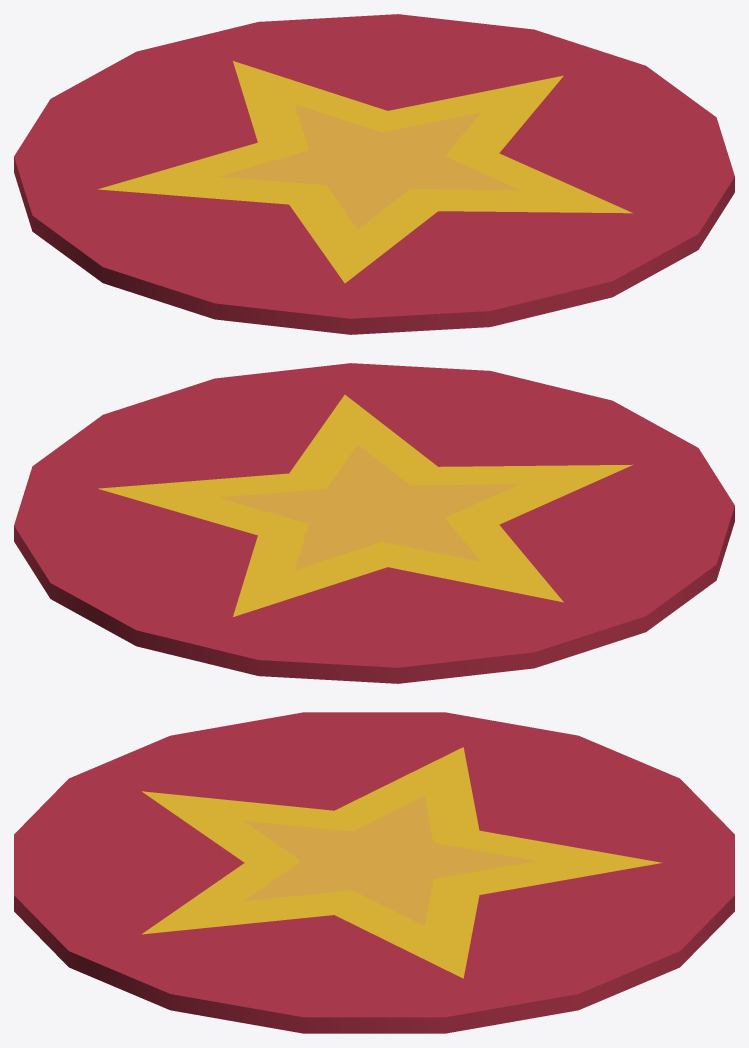
Rendered from CM_Event_CelebrityStar.fbx.
3 renders of one model, top to bottom at view 1: azimuth 30°, elevation 25°; view 2: azimuth 150°, elevation 25°; view 3: azimuth 270°, elevation 25°, orthographic.
Visible parts, largest first — view 1: Body; view 2: Body; view 3: Body.
Part boxes in pixels (<box>): Body: <box>14,14,734,334</box>; Body: <box>14,363,734,683</box>; Body: <box>14,712,734,1033</box>.
Size of the model in its own units: 4 by 4 by 0.124.
Materials: 1 (1 with a texture image).
